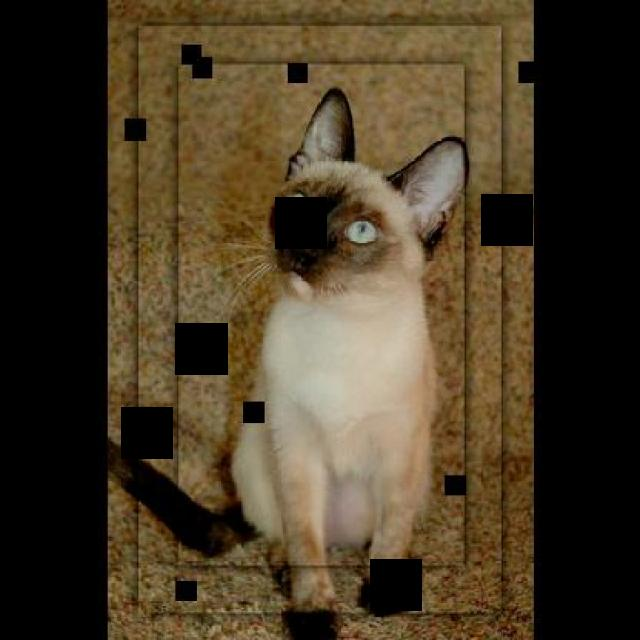unauthorized: (108, 84, 469, 638)
